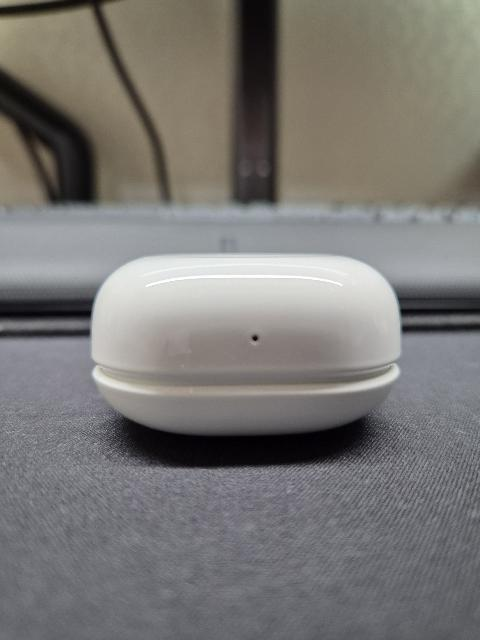earphone_case: (90, 253, 401, 436)
